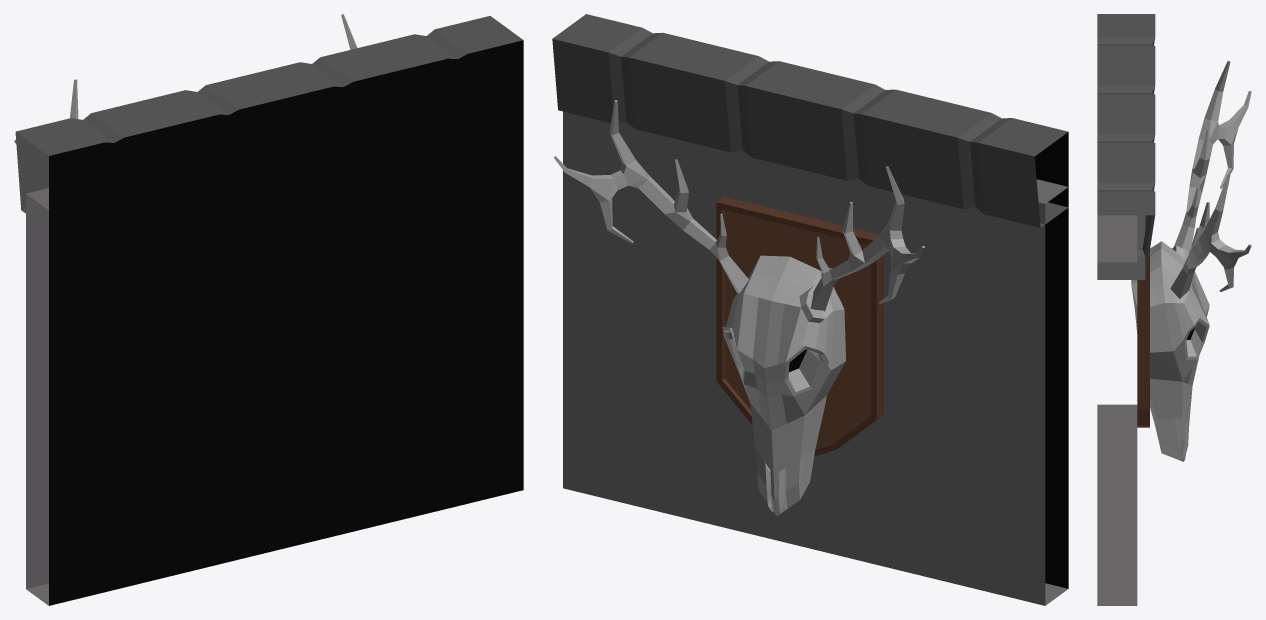
The model's file is Wall_12.fbx.
3 views of the same model, side by side, from view 1: azimuth 30°, elevation 25°; view 2: azimuth 150°, elevation 25°; view 3: azimuth 270°, elevation 25° (orthographic). The views are drawn at different scales.
Visible parts, largest first — view 1: Wall_12; view 2: Wall_12; view 3: Wall_12.
Boxes of the visible parts, <box> form: Wall_12: <box>14,14,523,605</box>; Wall_12: <box>552,14,1068,605</box>; Wall_12: <box>1097,14,1251,605</box>.
Bounding box in the file's own units: 200 × 181 × 64.9.
